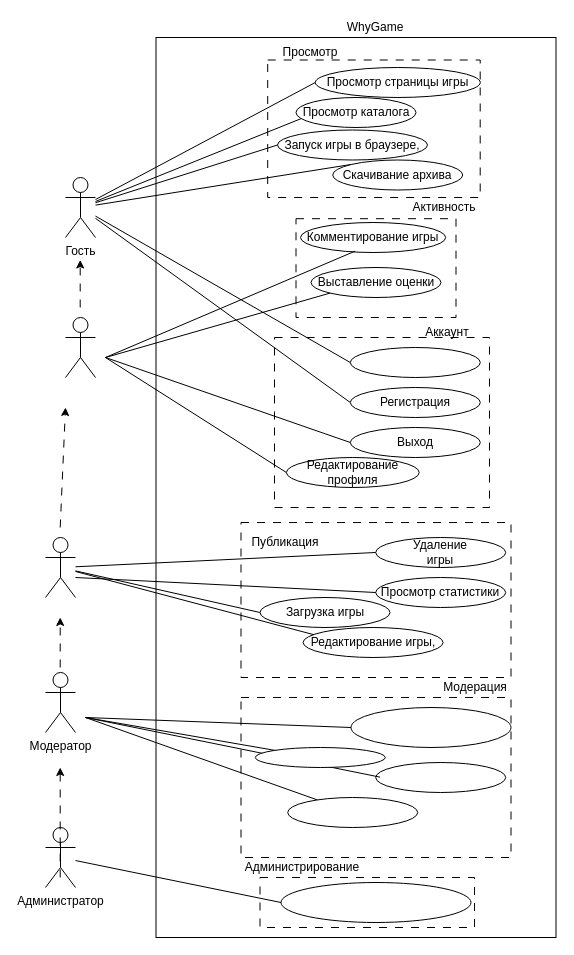
This 574x955 diagram has some shape labels left out. Each missing label, with the box of its shape:
Вход в систему: (349, 346, 480, 378)
Одобрение игры: (254, 746, 385, 768)
Пользователь: (64, 316, 96, 378)
Просмотр очереди модерации: (350, 706, 511, 748)
Разработчик: (44, 536, 76, 598)
Скры тие игры,: (375, 762, 506, 792)
Удаление комментария: (287, 796, 418, 828)
Управление ролями пользователей: (280, 882, 471, 922)
